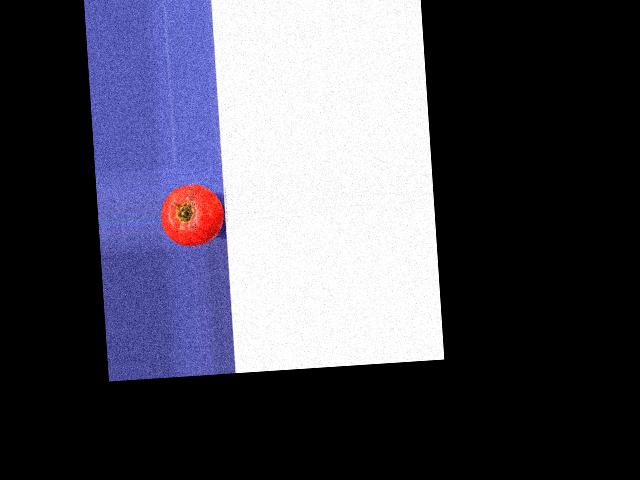tomato: (159, 182, 225, 248)
